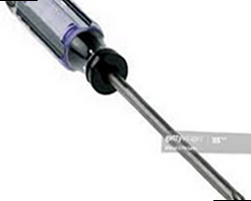Screwdriver: (4, 1, 250, 200)
